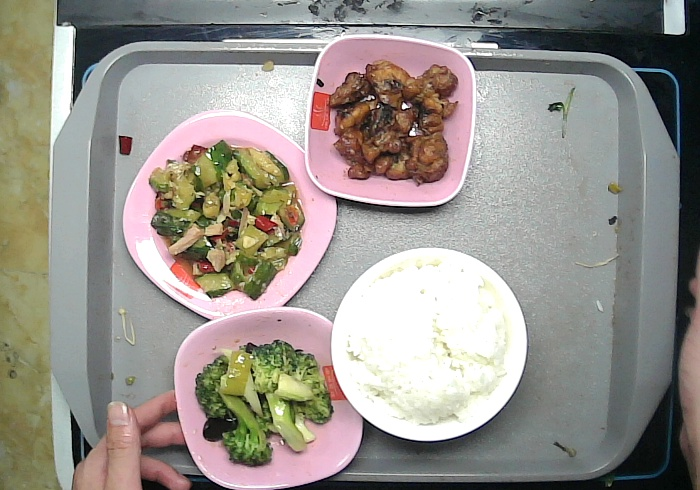SHKJ-Fan_Wan: (332, 246, 528, 448)
SHKJ-Fen_Se_Cai_Die: (172, 307, 365, 489)
SHKJ-Fen_Se_Si_Fang_Cai_Die: (122, 109, 339, 321)
SHKJ-Fen_Se_Xiao_Fang_Die: (305, 34, 477, 208)
